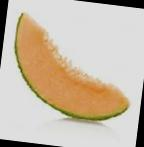Melon Ripe: (7, 12, 140, 124)
